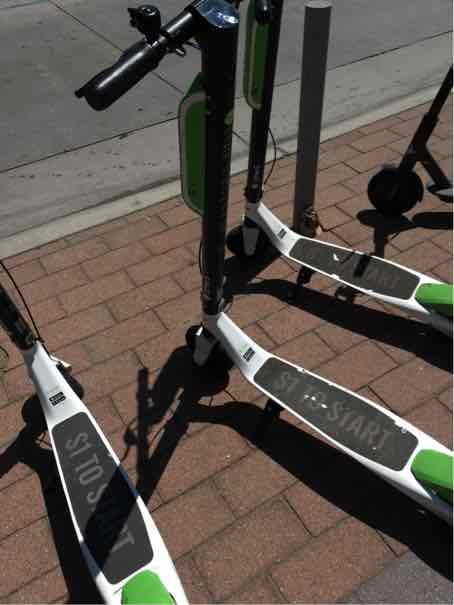scooter: (77, 3, 454, 523), (226, 3, 454, 341)
